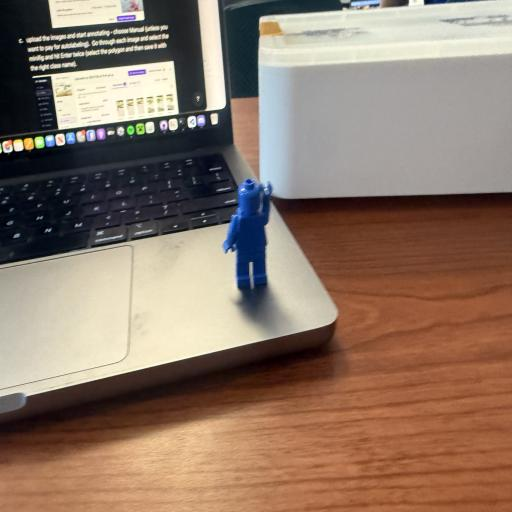Minifig: (222, 179, 272, 289)
